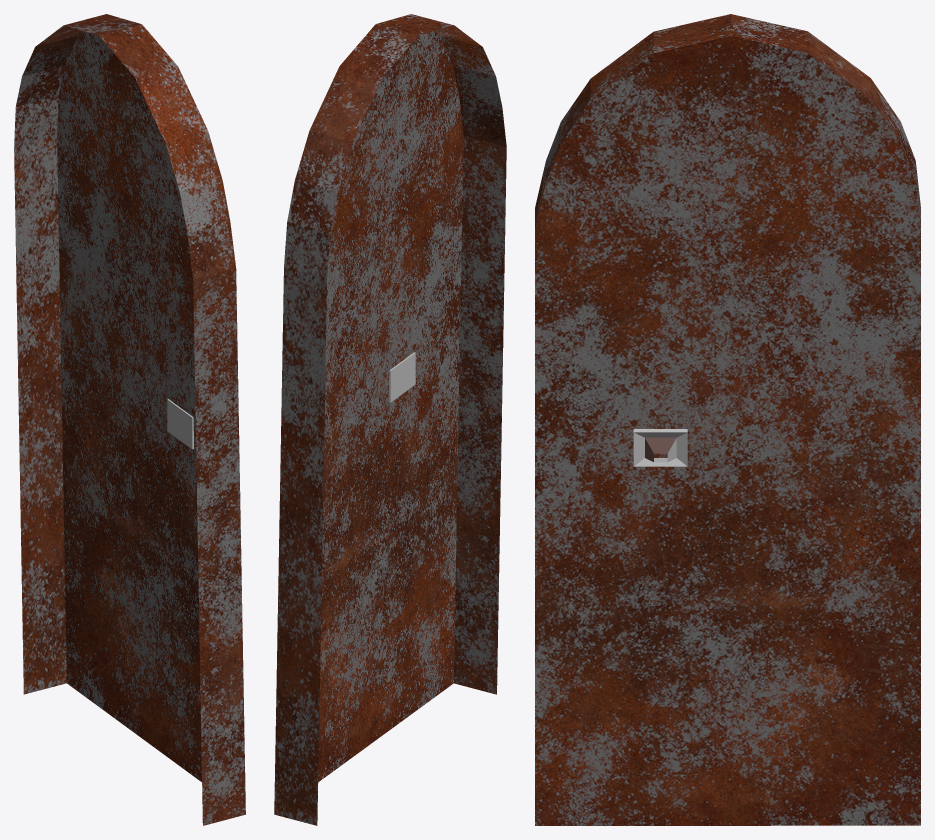
The model's file is Door.fbx.
The picture shows the model from 3 angles, left to right: view 1: azimuth 30°, elevation 25°; view 2: azimuth 150°, elevation 25°; view 3: azimuth 270°, elevation 25°; orthographic projection. The views are drawn at different scales.
Visible parts, largest first — view 1: Door; view 2: Door; view 3: Door.
Boxes of the visible parts, bbox=[...] form: Door: bbox=[14, 14, 245, 825]; Door: bbox=[274, 14, 506, 825]; Door: bbox=[535, 14, 920, 825].
Bounding box in the file's own units: 16.2 × 156 × 69.42.
